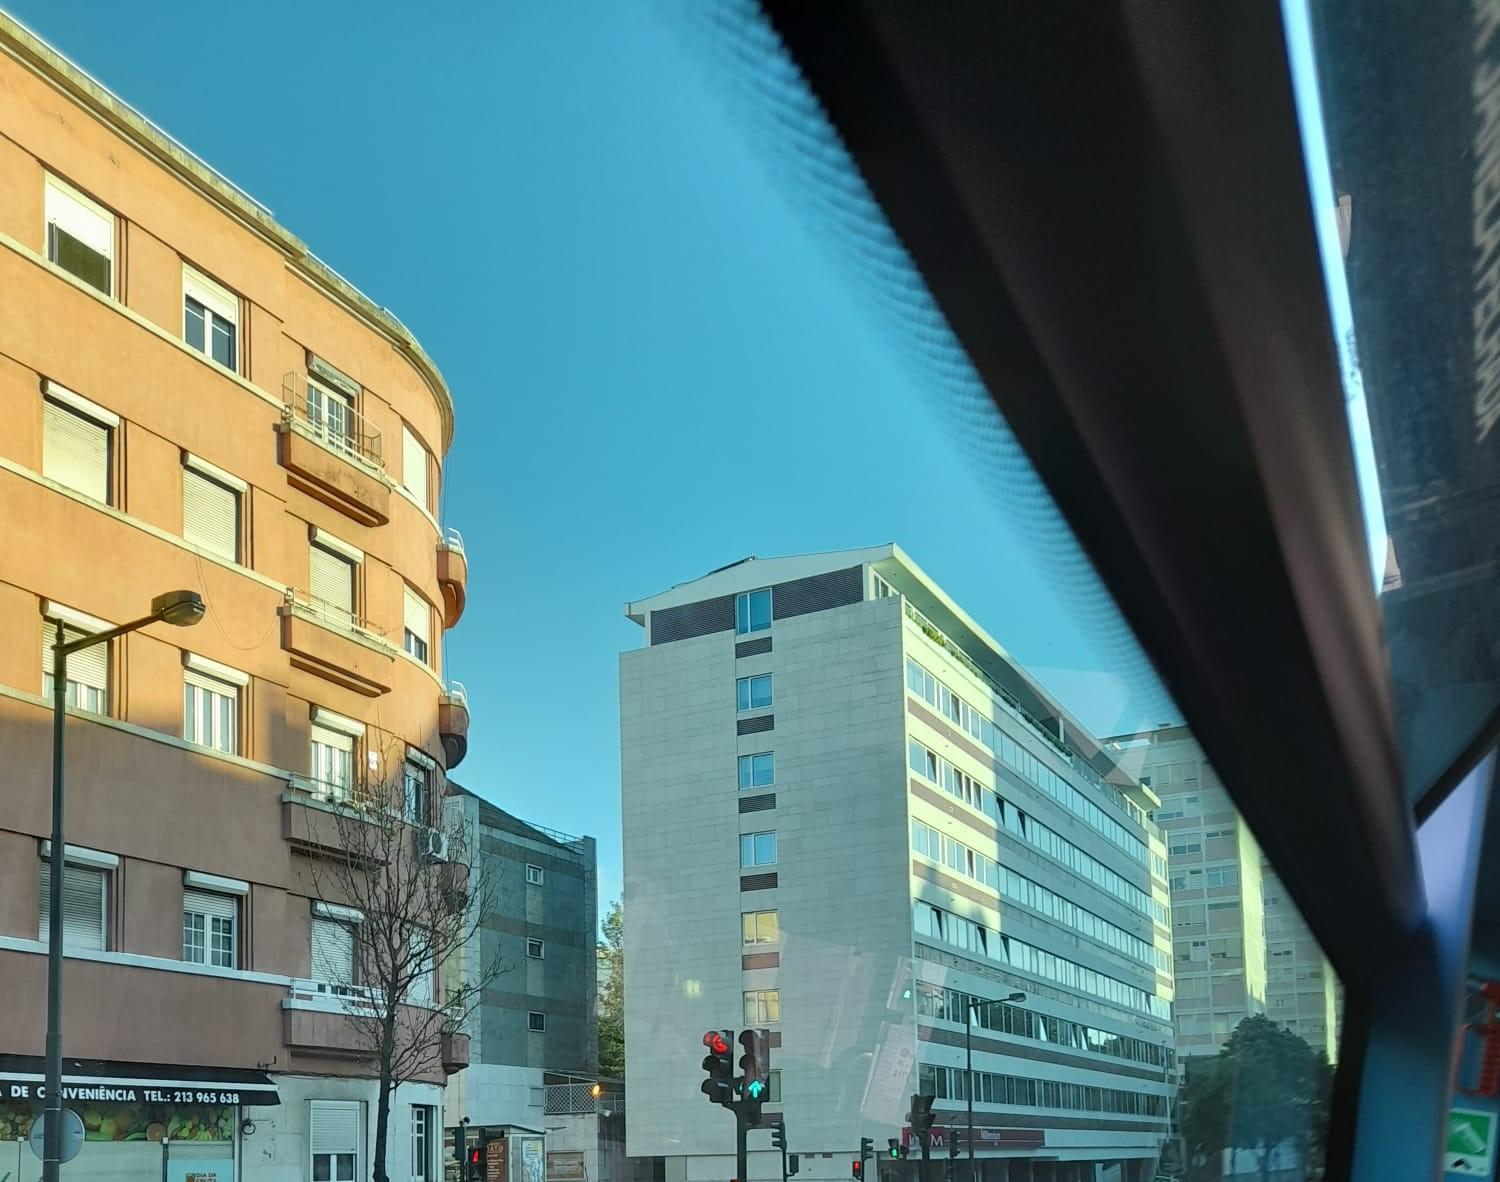green_light: (739, 1030, 769, 1103)
red_light: (701, 1029, 734, 1103)
